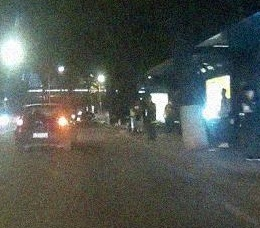L_light: (16, 118, 24, 127)
R_light: (58, 117, 68, 126)
T_light: (38, 105, 47, 107)
night-right: (15, 103, 69, 152)
